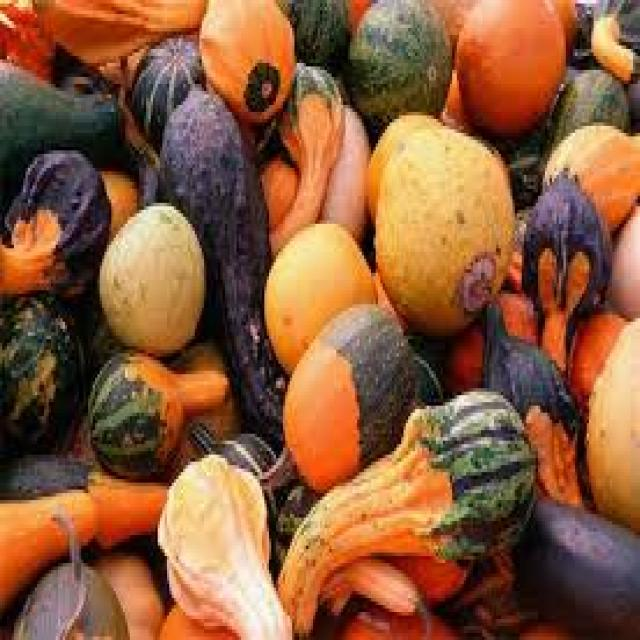organic waste: (0, 0, 638, 637), (274, 385, 533, 633), (157, 77, 280, 437), (373, 126, 512, 329), (276, 300, 415, 490), (153, 448, 292, 636), (0, 462, 167, 612), (84, 346, 230, 476), (0, 56, 123, 206), (517, 489, 638, 636), (262, 217, 376, 371), (522, 164, 605, 371), (0, 140, 109, 297), (95, 196, 206, 350), (7, 504, 123, 636), (454, 0, 564, 133), (262, 56, 341, 241), (450, 546, 612, 636), (341, 0, 450, 126), (0, 293, 83, 454), (33, 0, 204, 77), (582, 308, 638, 532), (197, 0, 296, 122), (540, 119, 638, 241), (441, 283, 538, 395), (315, 549, 429, 626), (366, 105, 441, 220), (327, 549, 468, 609), (130, 32, 202, 144), (543, 66, 626, 154), (92, 538, 164, 636), (188, 419, 278, 496), (322, 94, 369, 238), (568, 297, 629, 402), (332, 594, 459, 636), (67, 269, 116, 374), (572, 0, 638, 77), (48, 35, 120, 105), (273, 0, 347, 66), (267, 476, 313, 566), (494, 119, 547, 196), (605, 199, 638, 315), (0, 447, 90, 489), (0, 0, 51, 73), (155, 598, 246, 637), (121, 105, 160, 196), (258, 154, 299, 227), (366, 259, 406, 329), (436, 60, 471, 136), (428, 0, 475, 52), (97, 164, 137, 224), (550, 0, 572, 70), (331, 0, 368, 31), (622, 66, 638, 133), (501, 234, 522, 284)
